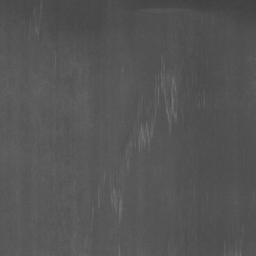Silk spot: (120, 72, 171, 160), (101, 187, 114, 213), (177, 102, 188, 130), (178, 68, 187, 100), (160, 59, 173, 76), (112, 168, 121, 189), (184, 232, 188, 253)
